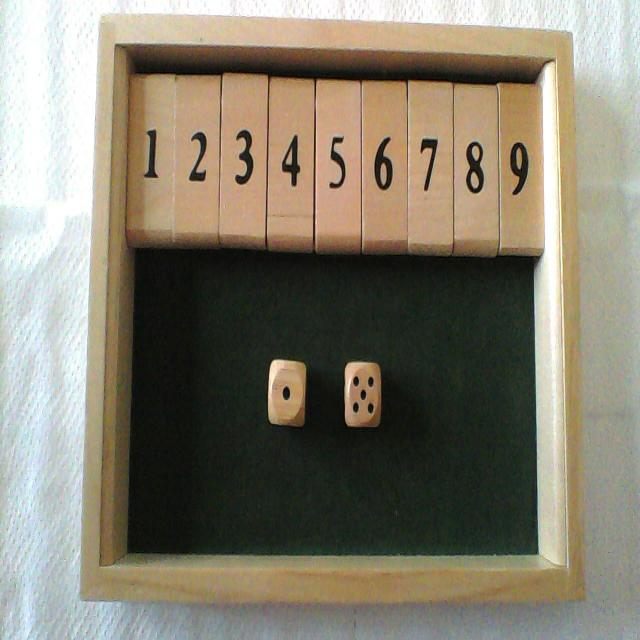1: (264, 351, 308, 438)
5: (339, 351, 385, 436)
C1: (127, 14, 173, 247)
C2: (174, 15, 220, 247)
C3: (221, 14, 267, 247)
C4: (268, 17, 314, 250)
C5: (315, 20, 360, 252)
C6: (362, 20, 406, 253)
C7: (409, 24, 452, 254)
C8: (455, 25, 498, 254)
C9: (500, 27, 544, 255)
